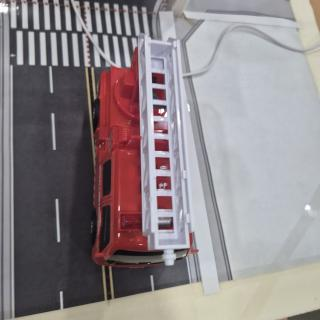Fire_truck: (91, 33, 199, 268)
